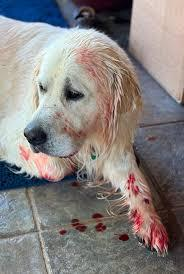bleeding: (80, 163, 180, 258)
